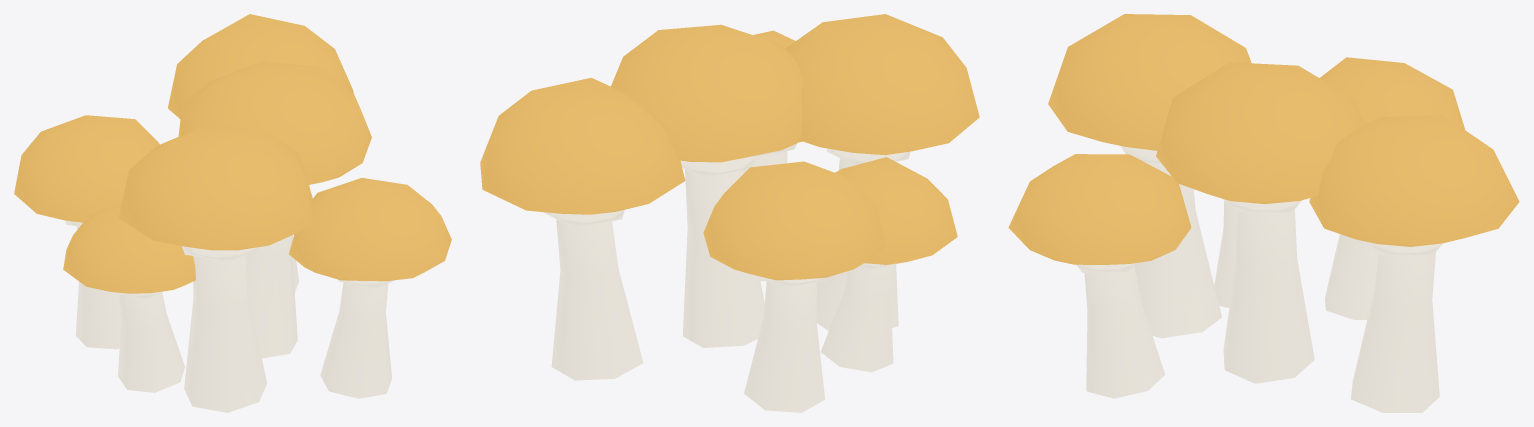
File: Blender_Toadstool_TanGroup.glb
The picture shows the model from 3 angles, left to right: view 1: azimuth 30°, elevation 25°; view 2: azimuth 150°, elevation 25°; view 3: azimuth 270°, elevation 25°; orthographic projection. The views are drawn at different scales.
Parts seen in each view (by area): view 1: Blender_Toadstool_TanGroup; view 2: Blender_Toadstool_TanGroup; view 3: Blender_Toadstool_TanGroup.
Boxes of the visible parts, box(x1,y1,x2,y2) form: Blender_Toadstool_TanGroup: box(14, 14, 451, 412); Blender_Toadstool_TanGroup: box(480, 14, 979, 412); Blender_Toadstool_TanGroup: box(1008, 14, 1519, 412).
Bounding box in the file's own units: 1.02 × 0.7811 × 1.2.
